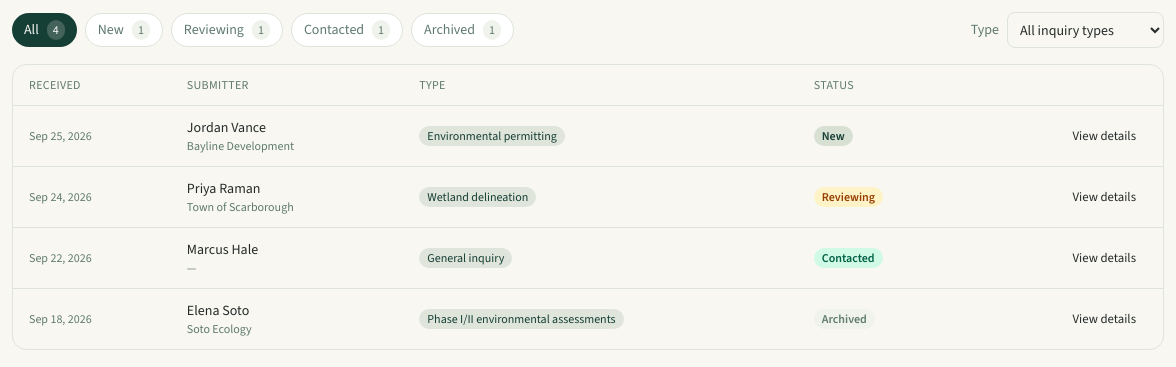
InquiriesTable filtering › filters rows by inquiry type through the dropdown
Select "Assessment" in the dropdown labelled "Type" at (1086, 30), box x1=1007 y1=12 x2=1164 y2=48
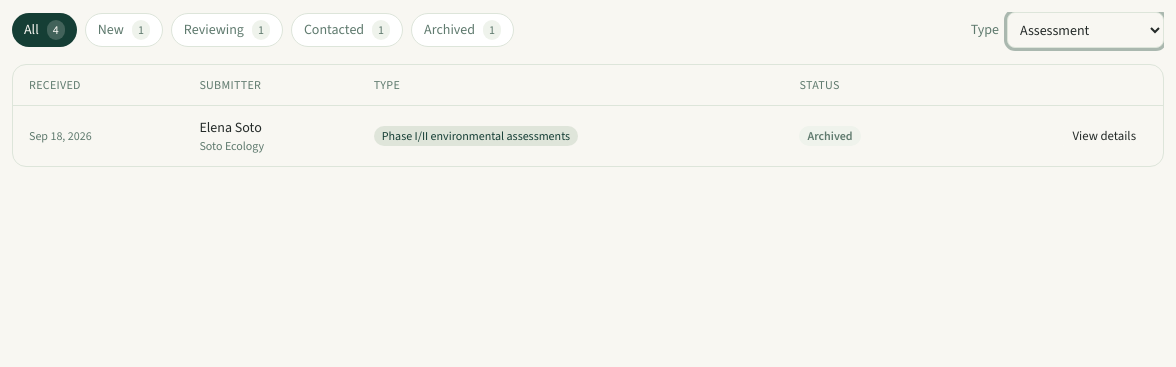
Expected: the text "Elena Soto" is shown, x1=199 y1=118 x2=262 y2=137
Expected: the text "Jordan Vance" is gone
Expected: the text "Marcus Hale" is gone
